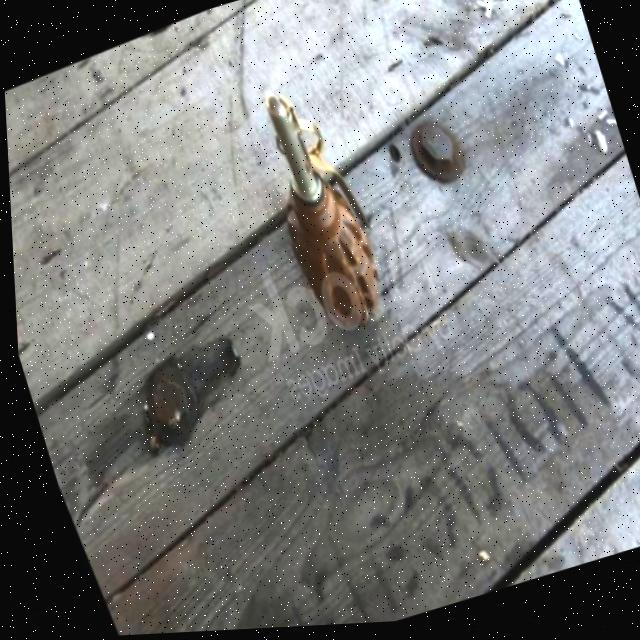grenade: (226, 70, 407, 357)
